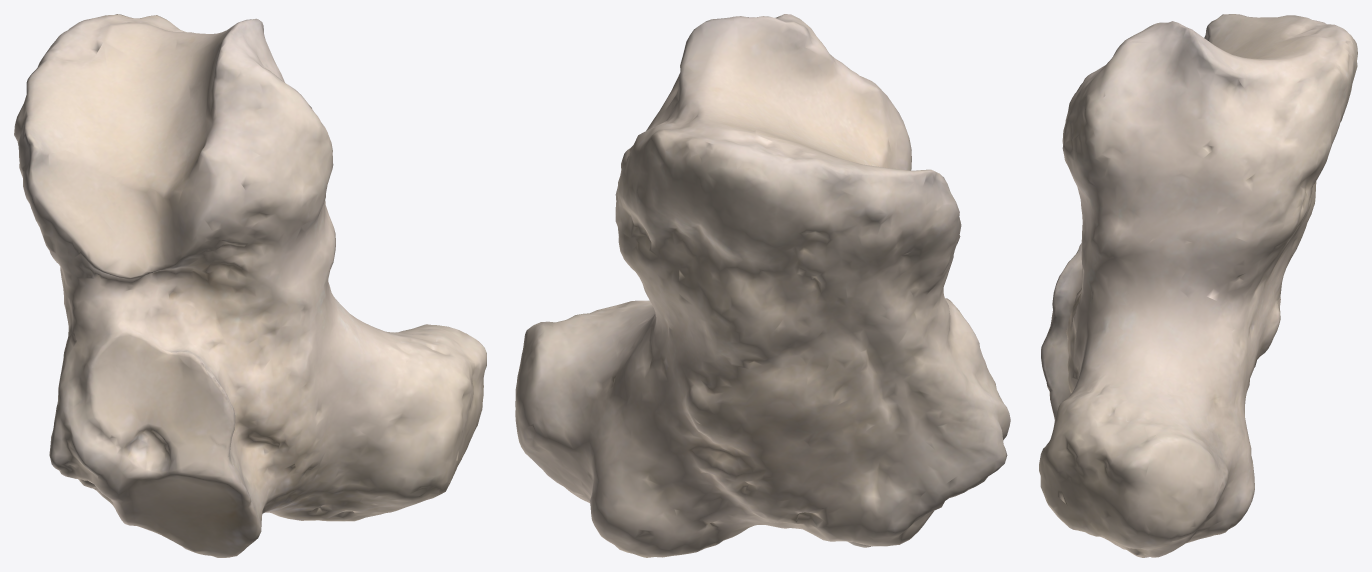
The picture shows the model from 3 angles, left to right: view 1: azimuth 30°, elevation 25°; view 2: azimuth 150°, elevation 25°; view 3: azimuth 270°, elevation 25°; orthographic projection. The views are drawn at different scales.
Visible parts, largest first — view 1: Os tarsale primum_li_Schwein.001; view 2: Os tarsale primum_li_Schwein.001; view 3: Os tarsale primum_li_Schwein.001.
Part boxes in pixels (left/top/right/bottom): Os tarsale primum_li_Schwein.001: left=14, top=14, right=486, bottom=557; Os tarsale primum_li_Schwein.001: left=515, top=14, right=1010, bottom=557; Os tarsale primum_li_Schwein.001: left=1039, top=14, right=1357, bottom=557.
Bounding box in the file's own units: 1824 × 2031 × 1233.
1 material, 1 textured.
